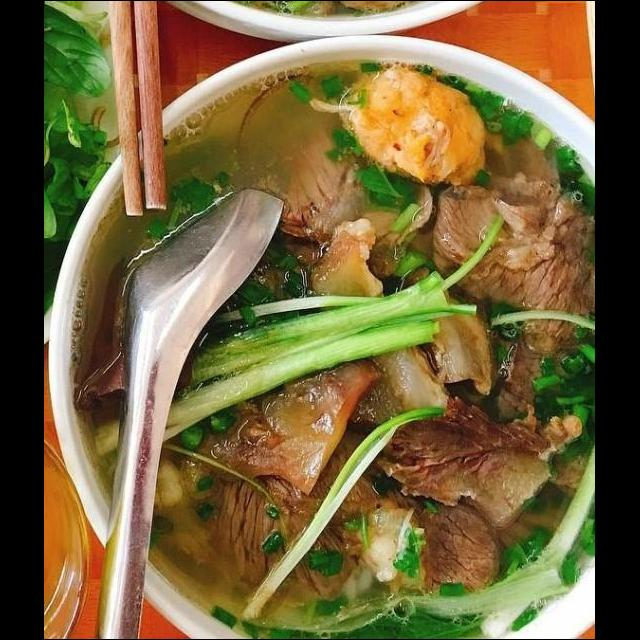thit bo: (205, 438, 506, 602), (424, 170, 596, 429), (367, 387, 588, 536), (264, 106, 382, 249)
